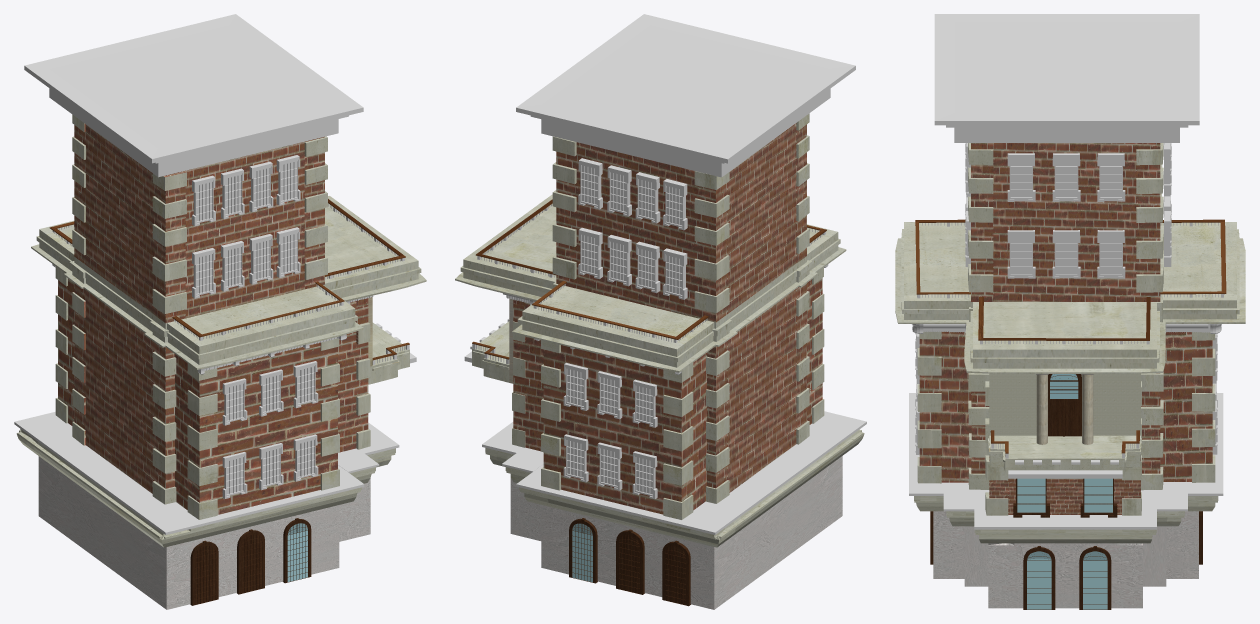
The model's file is Edificio.fbx.
The picture shows the model from 3 angles, left to right: view 1: azimuth 30°, elevation 25°; view 2: azimuth 150°, elevation 25°; view 3: azimuth 270°, elevation 25°; orthographic projection. The views are drawn at different scales.
Visible parts, largest first — view 1: Cube.007, Cube.004, Cube.008, Cube, Cube.006, Cube.010, Cube.003, Cube.009, Cube.485, Cube.483, Cube.484, Cube.466 (+15 smaller); view 2: Cube.007, Cube.004, Cube.009, Cube, Cube.006, Cube.010, Cube.003, Cube.008, Cube.481, Cube.482, Cube.480, Cube.454 (+15 smaller); view 3: Cube.007, Cube.004, Cube.010, Cube, Cube.009, Cube.008, Cube.006, Cube.003, Cube.478, Cube.477, Cube.479, Cube.001 (+17 smaller).
Boxes of the visible parts, x1,y1,x2,y2 form: Cube.007: (31,114,426,504); Cube.004: (24,14,363,177); Cube.008: (175,338,339,519); Cube: (38,456,370,609); Cube.006: (14,411,399,534); Cube.010: (338,297,409,452); Cube.003: (16,429,395,547); Cube.009: (55,266,74,425); Cube.485: (190,540,218,605); Cube.483: (283,518,311,583); Cube.484: (237,529,264,594); Cube.466: (192,175,215,226); Cube.007: (455,113,846,503); Cube.004: (516,14,855,177); Cube.009: (541,340,706,519); Cube: (510,456,842,609); Cube.006: (482,411,866,534); Cube.010: (472,298,543,451); Cube.003: (485,429,864,547); Cube.008: (807,267,824,424); Cube.481: (616,529,644,594); Cube.482: (662,540,690,606); Cube.480: (569,518,597,583); Cube.454: (578,227,602,279); Cube.007: (895,143,1245,490); Cube.004: (934,14,1199,142); Cube.010: (985,373,1141,515); Cube: (933,511,1198,608); Cube.009: (1160,332,1215,482); Cube.008: (917,331,971,483); Cube.006: (909,393,1223,529); Cube.003: (914,496,1218,543); Cube.478: (1048,374,1081,436); Cube.477: (1023,546,1055,609); Cube.479: (1079,546,1111,609); Cube.001: (964,526,988,586).
Size of the model in its own units: 2526 by 3675 by 2460.
23 materials, 13 textured.
